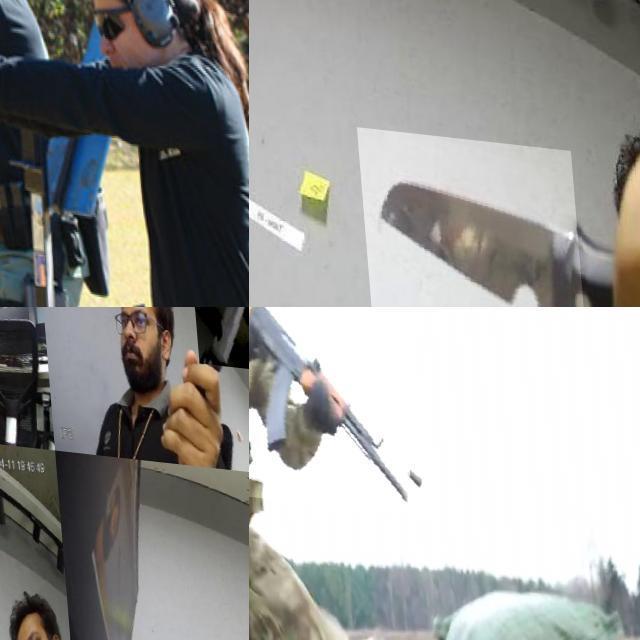-: (351, 121, 580, 307), (0, 499, 38, 640), (186, 307, 249, 382), (219, 526, 249, 640), (0, 335, 9, 387)
gun-knife-thesis - v11 Yolov5 augmented: (249, 307, 424, 507), (0, 2, 58, 115), (0, 0, 38, 49)
